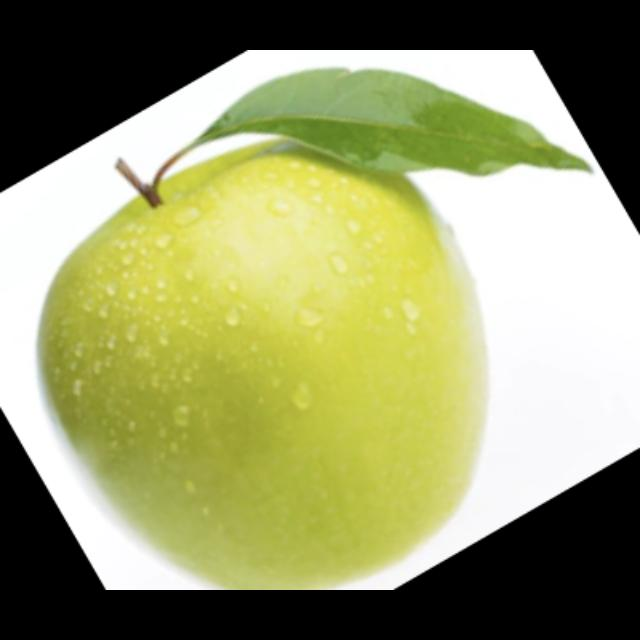Apel Segar: (29, 69, 493, 591)
